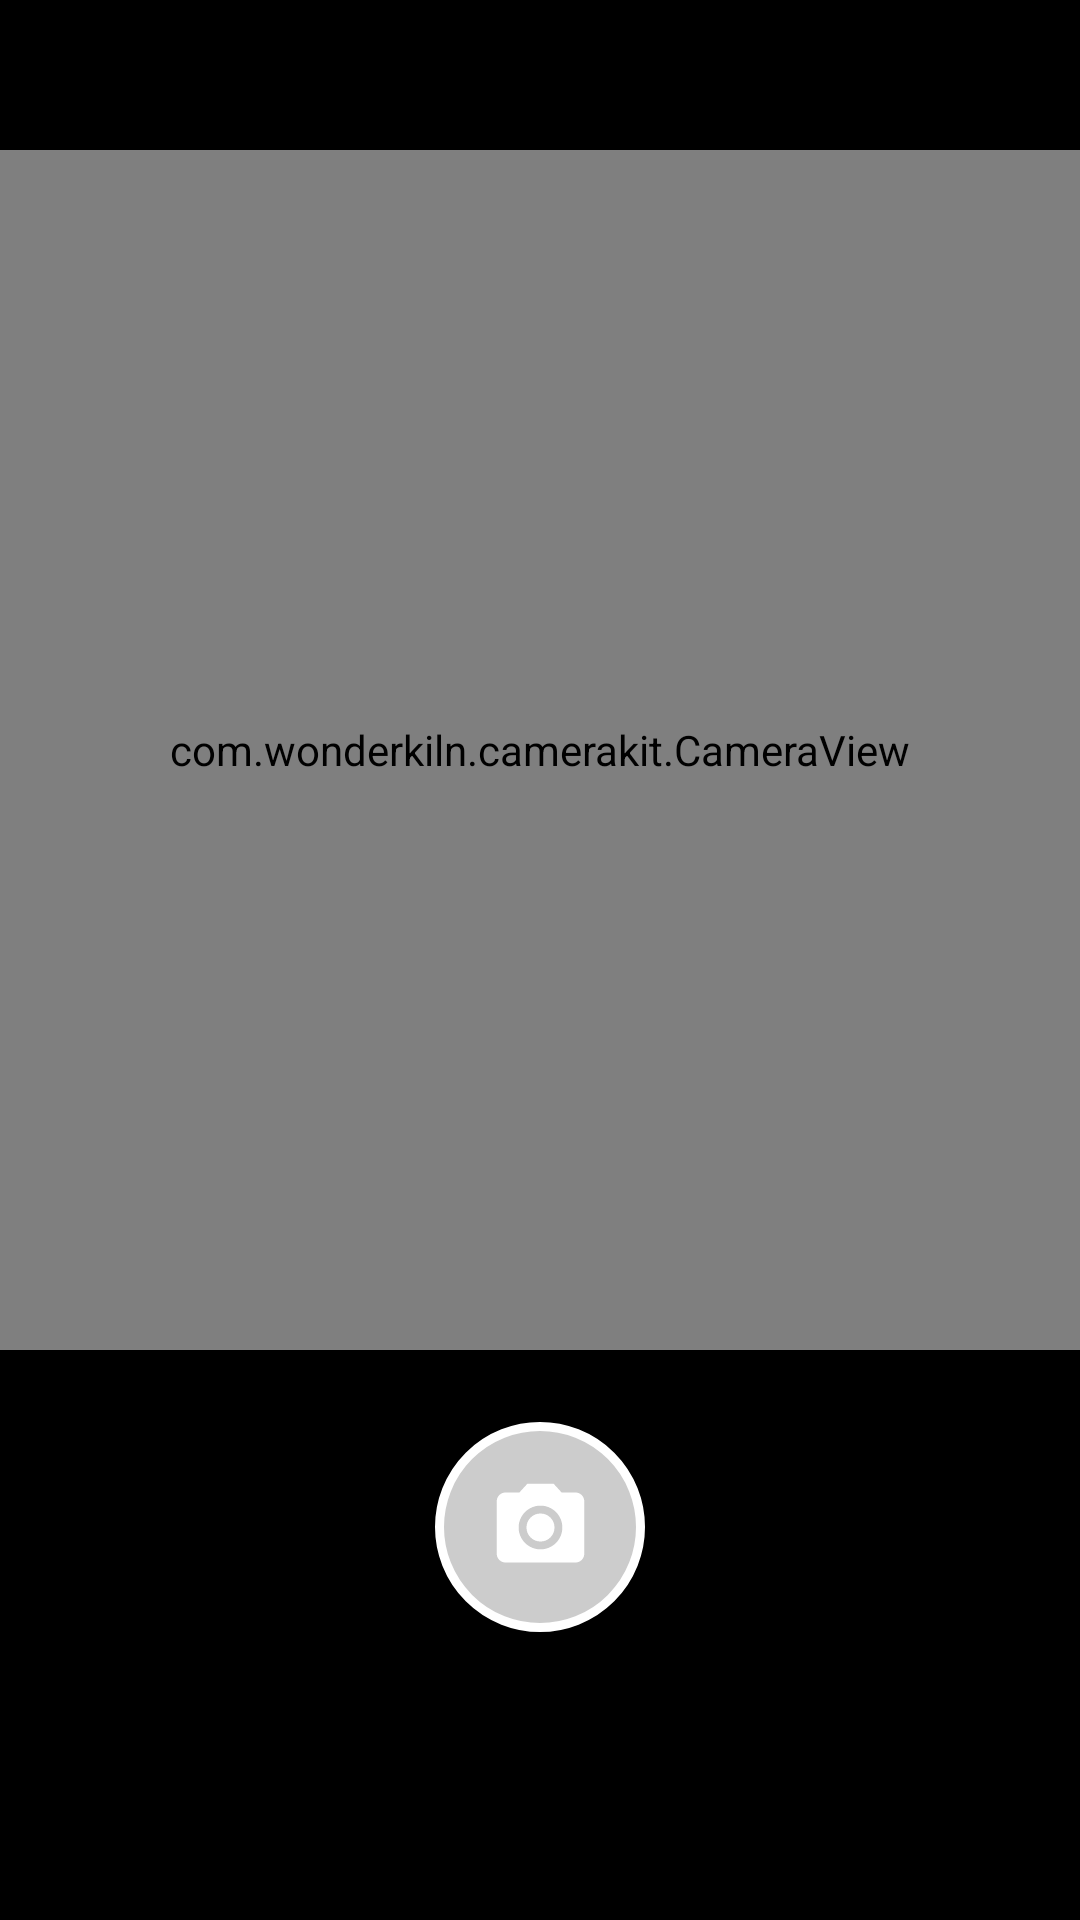

Icons on this 1080x1920 Android screen, each with the point to tap as [x,y]:
camera push: [540,1527]
